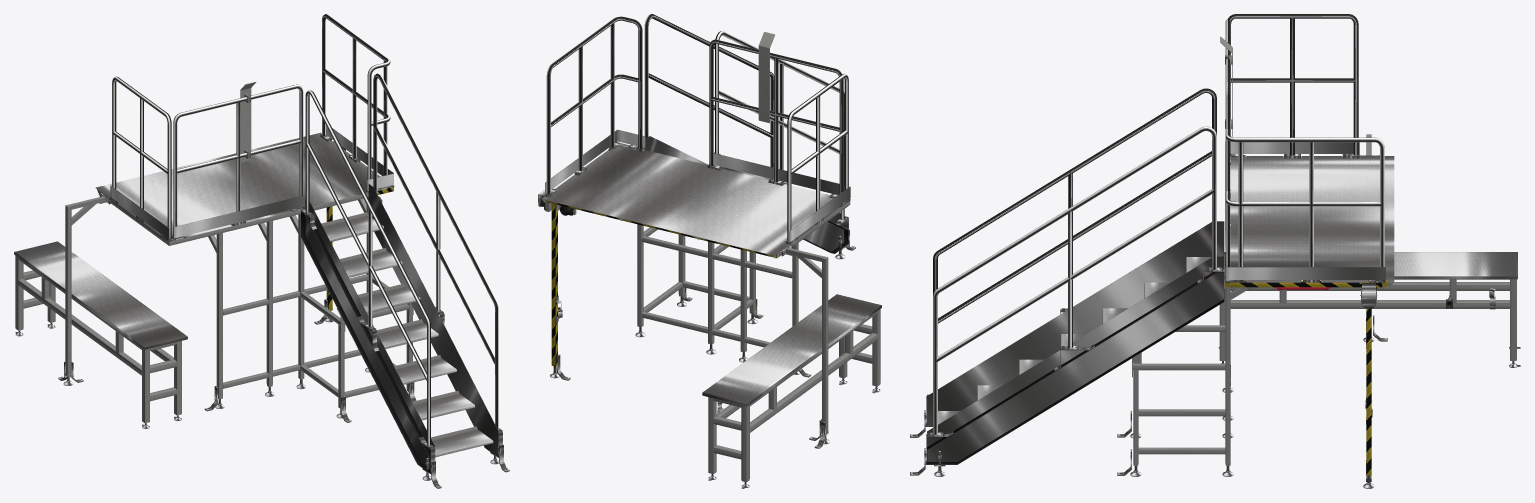
Rendered from DOPANT_BRIDGE.glb.
The picture shows the model from 3 angles, left to right: view 1: azimuth 30°, elevation 25°; view 2: azimuth 150°, elevation 25°; view 3: azimuth 270°, elevation 25°; orthographic projection. The views are drawn at different scales.
Parts seen in each view (by area): view 1: DOPANT_BRIDGE; view 2: DOPANT_BRIDGE; view 3: DOPANT_BRIDGE.
Boxes of the visible parts, x1,y1,x2,y2 form: DOPANT_BRIDGE: (14,14,509,488); DOPANT_BRIDGE: (538,14,881,488); DOPANT_BRIDGE: (910,14,1520,488).
Size of the model in its own units: 2.61 by 2.86 by 4.31.
Materials: 1 (1 with a texture image).
